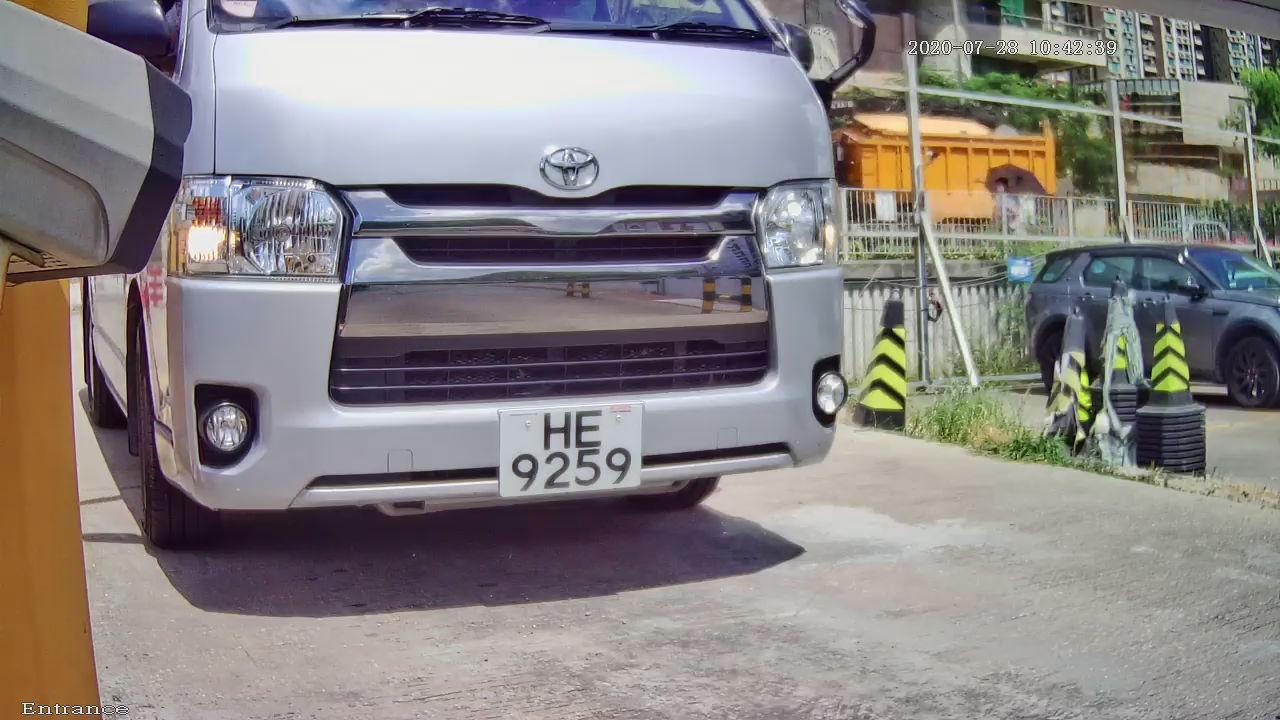privatecar: (35, 7, 943, 592)
